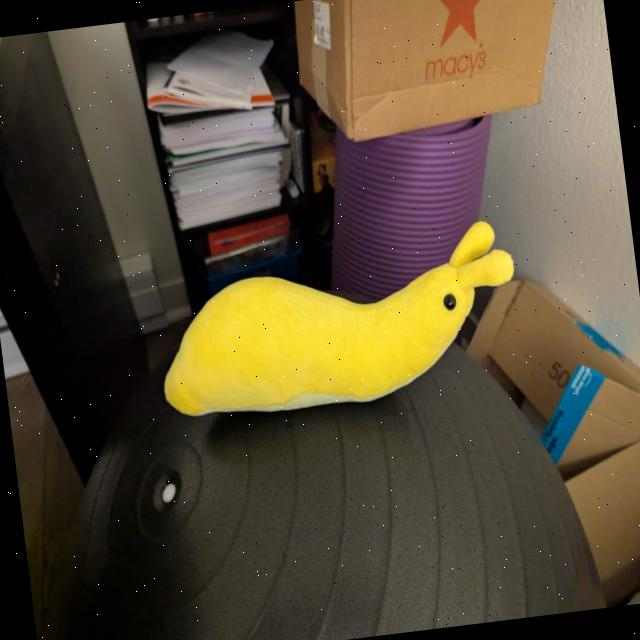banana-slug-toy: (146, 208, 537, 444)
